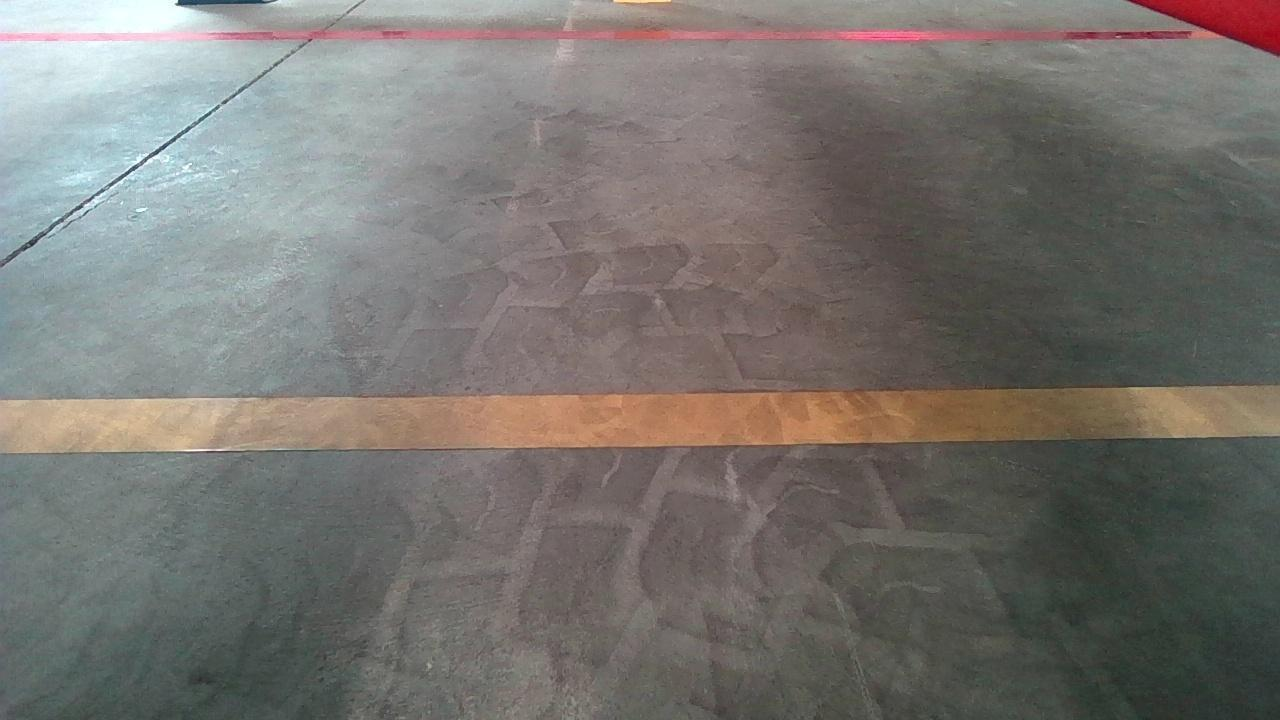red_line: (6, 26, 1186, 48)
yellow_line: (0, 383, 1264, 454)
